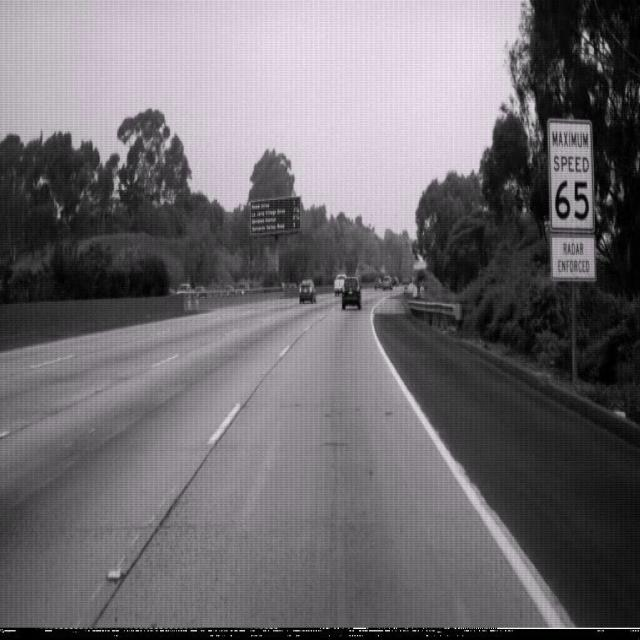speedLimit65: (546, 117, 596, 234)
